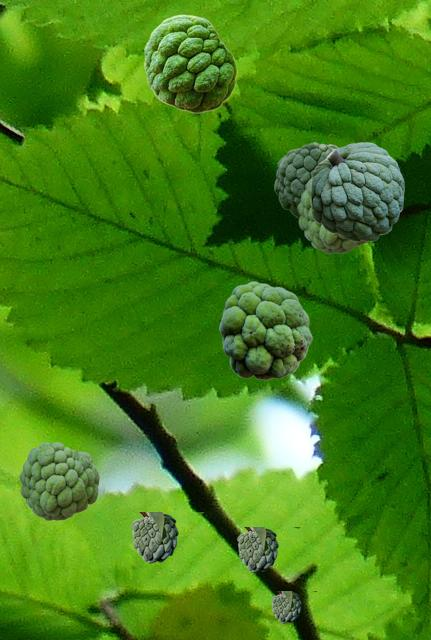atis: (219, 281, 311, 379), (311, 142, 403, 240), (144, 14, 236, 112), (19, 442, 98, 519), (297, 178, 369, 252), (274, 142, 337, 218), (131, 512, 202, 562), (237, 527, 299, 571), (271, 591, 316, 622)
